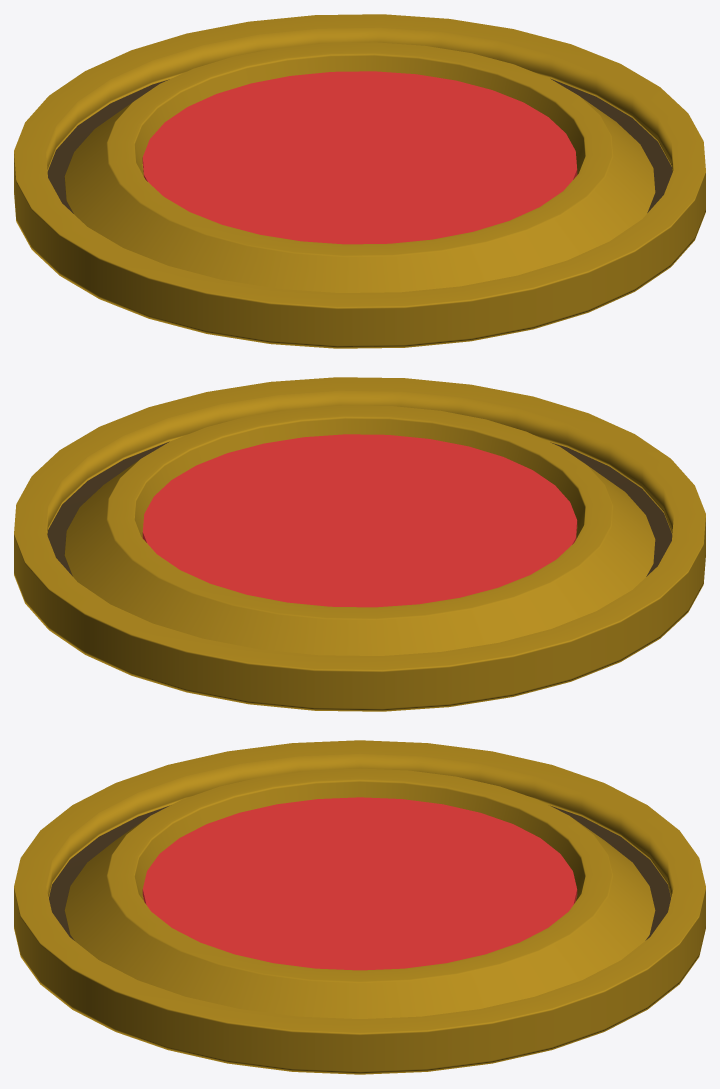
The model's file is checkpoint merah.fbx.
3 views of the same model, one above another, from view 1: azimuth 30°, elevation 25°; view 2: azimuth 150°, elevation 25°; view 3: azimuth 270°, elevation 25° (orthographic).
Visible parts, largest first — view 1: Cylinder, Cylinder.001, Cylinder.002; view 2: Cylinder, Cylinder.001, Cylinder.002; view 3: Cylinder, Cylinder.001, Cylinder.002.
Part boxes in pixels (<box>): Cylinder: <box>14,14,705,348</box>; Cylinder.001: <box>142,71,577,244</box>; Cylinder.002: <box>64,42,655,292</box>; Cylinder: <box>14,377,705,711</box>; Cylinder.001: <box>142,434,577,607</box>; Cylinder.002: <box>64,405,655,655</box>; Cylinder: <box>14,740,705,1074</box>; Cylinder.001: <box>142,797,577,970</box>; Cylinder.002: <box>64,768,655,1018</box>.
Bounding box in the file's own units: 332 × 28.35 × 332.
1 material, 1 textured.
